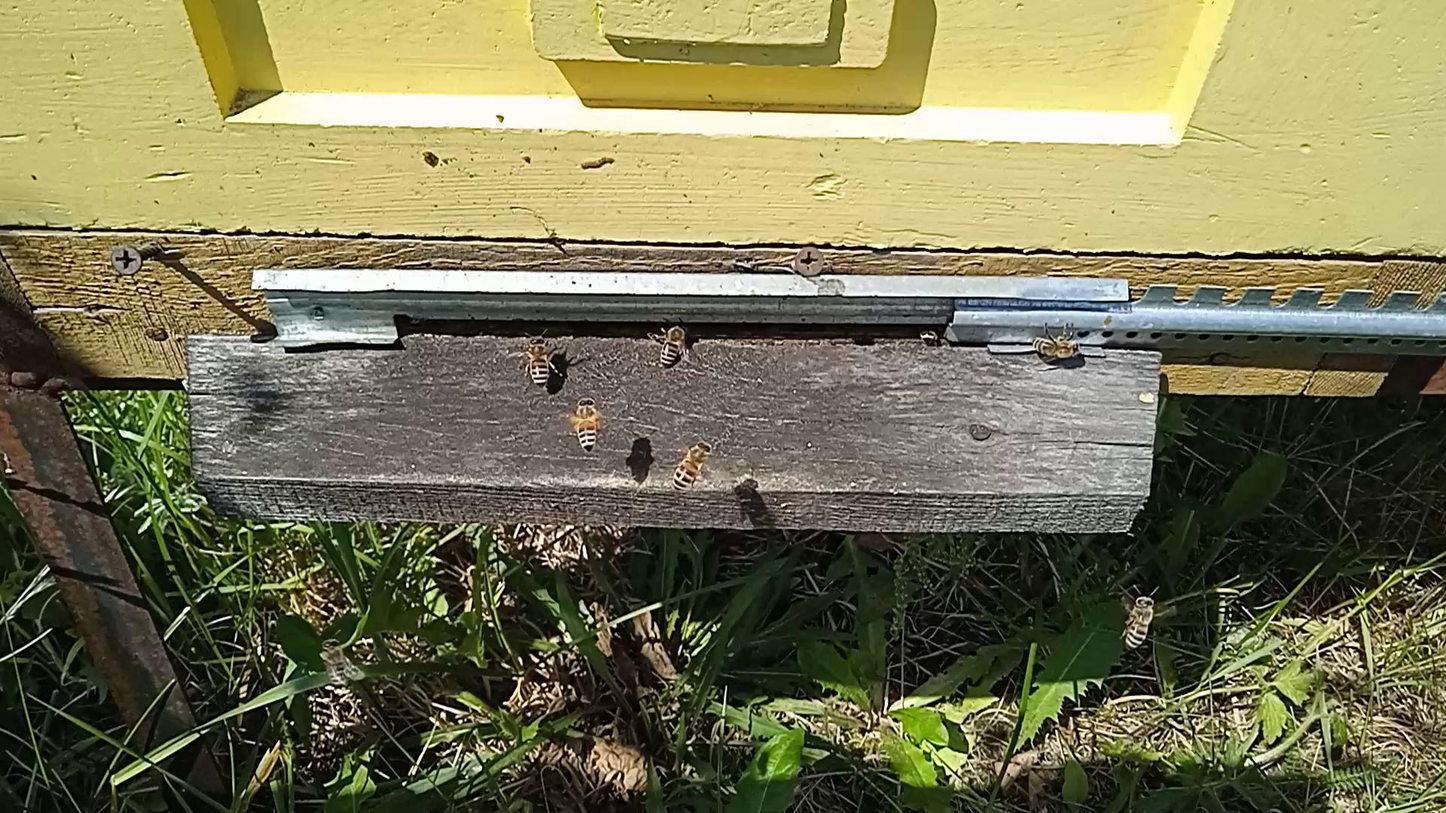worker-bee: (672, 440, 713, 492), (1123, 594, 1155, 650), (572, 395, 601, 452), (523, 335, 554, 386), (1030, 333, 1083, 361), (657, 321, 688, 367), (321, 638, 349, 688), (916, 325, 944, 346)
